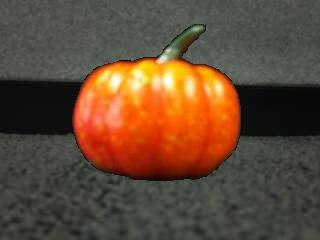Pumpkin: (70, 21, 244, 181)
